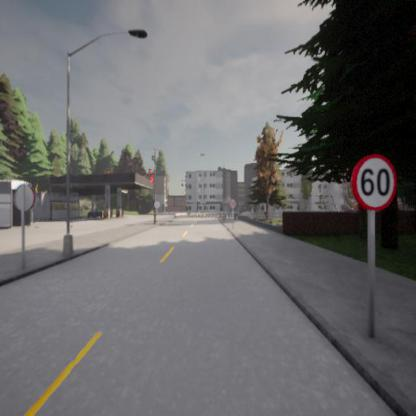traffic_sign_60: (350, 152, 398, 212)
